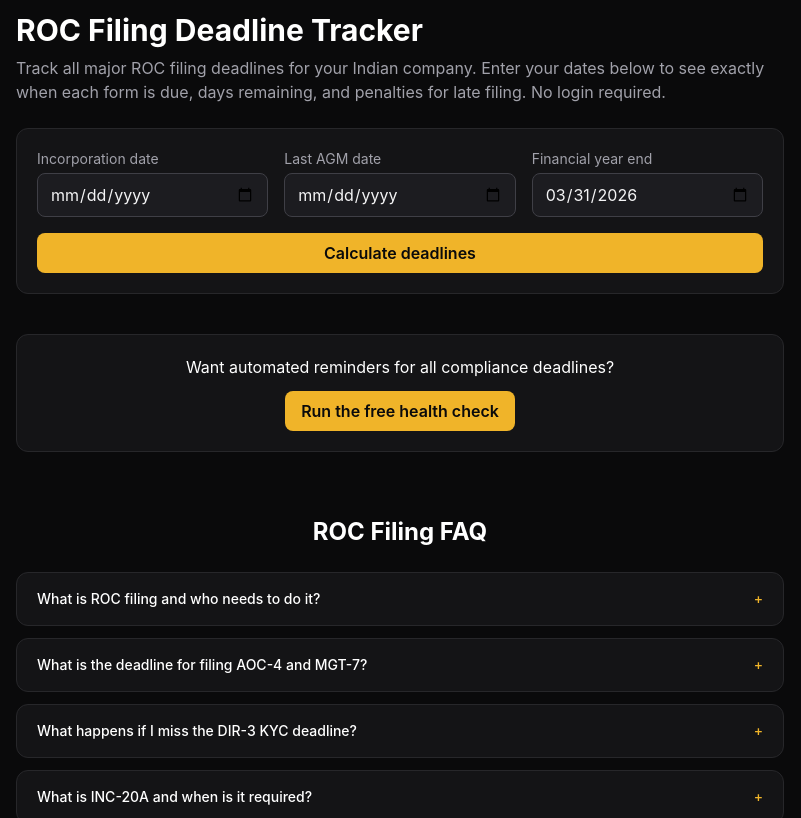
Test case: RocFilingTracker › shows filing items after submitting the form
Type "2024-01-15" into the date field labelled "Incorporation date". click: (153, 195)
box: [37,173,268,217]
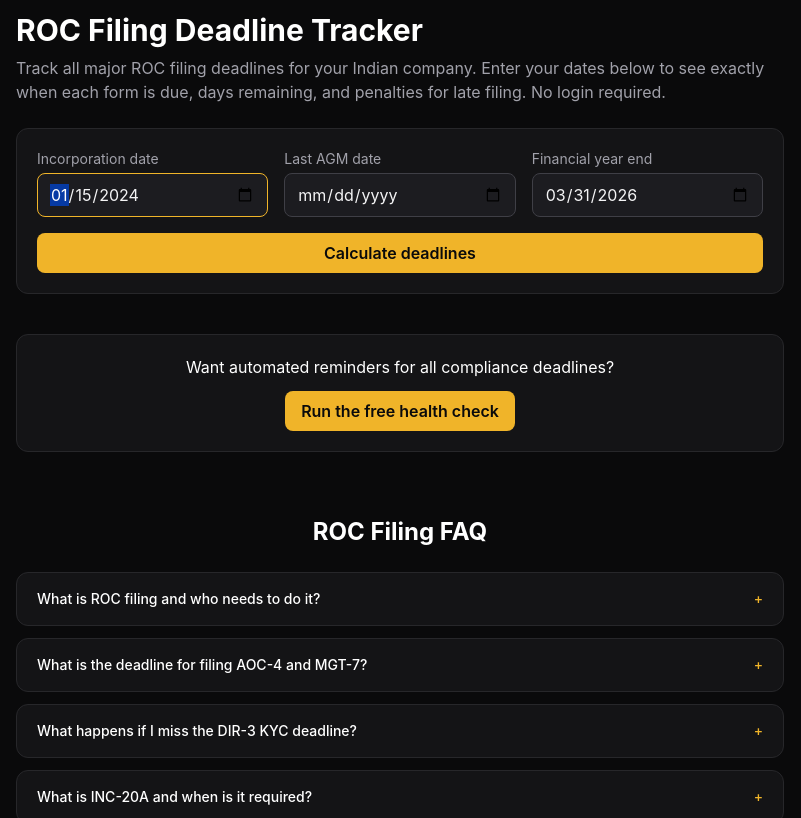
Type "2026-09-30" into the date field labelled "Last AGM date". click: (400, 195)
box: [284,173,516,217]
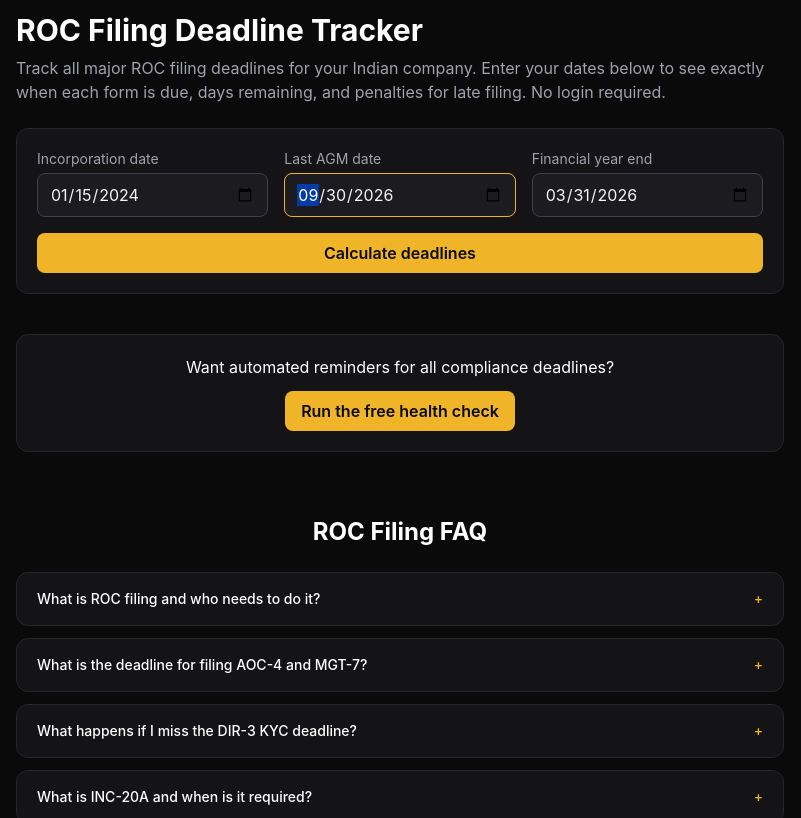
Click the button "Calculate deadlines". click: click(400, 253)
box: [37,233,763,273]
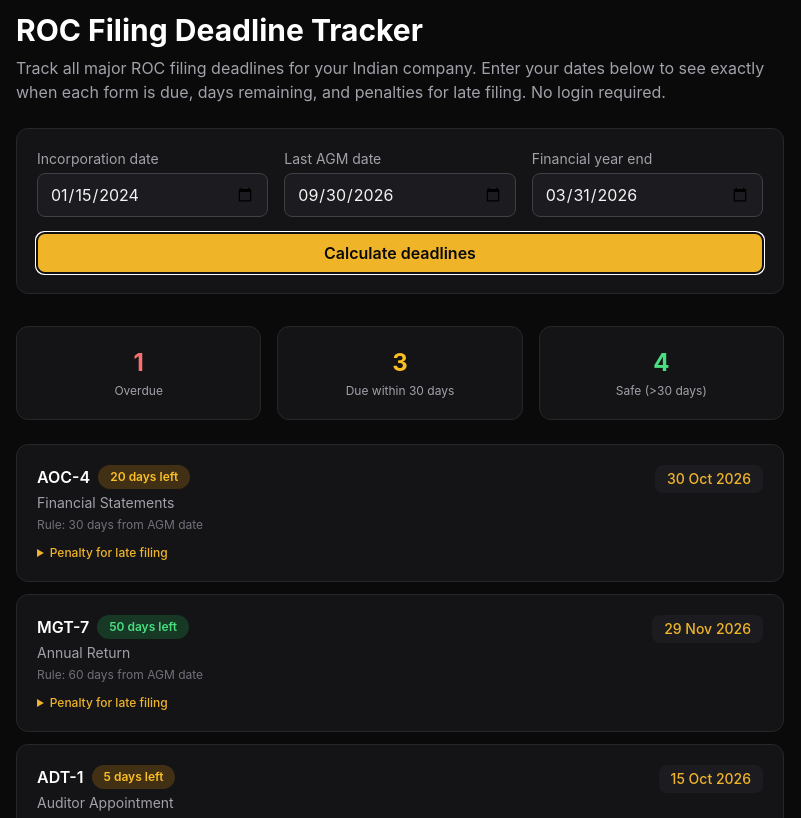
Expected: the number of elements with test id "filing-item" is 9
